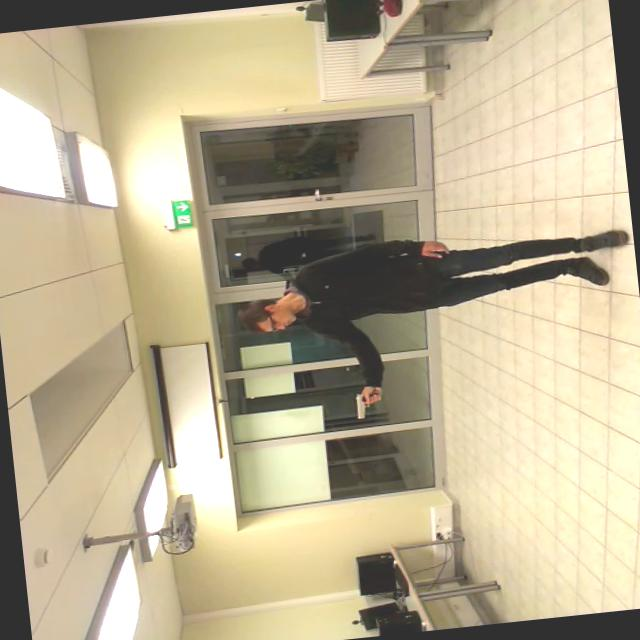handgun: (338, 372, 399, 428)
